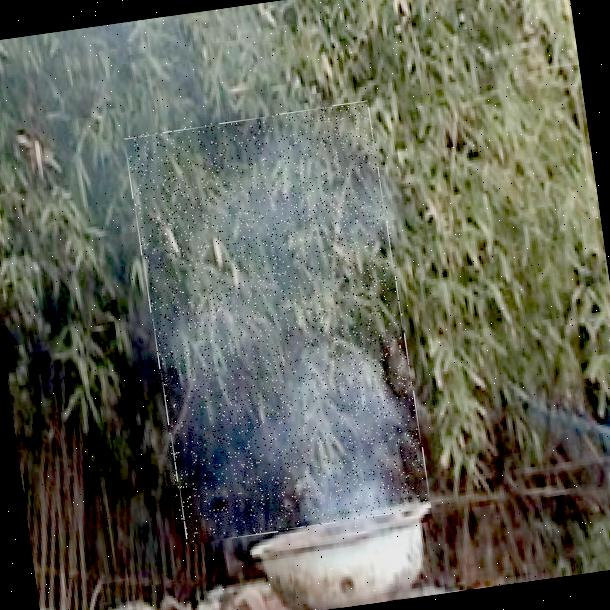smoke: (125, 101, 430, 545)
